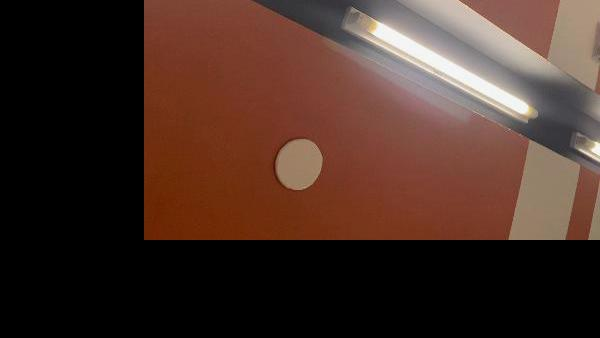light_on: (330, 0, 543, 131), (562, 118, 600, 233)
